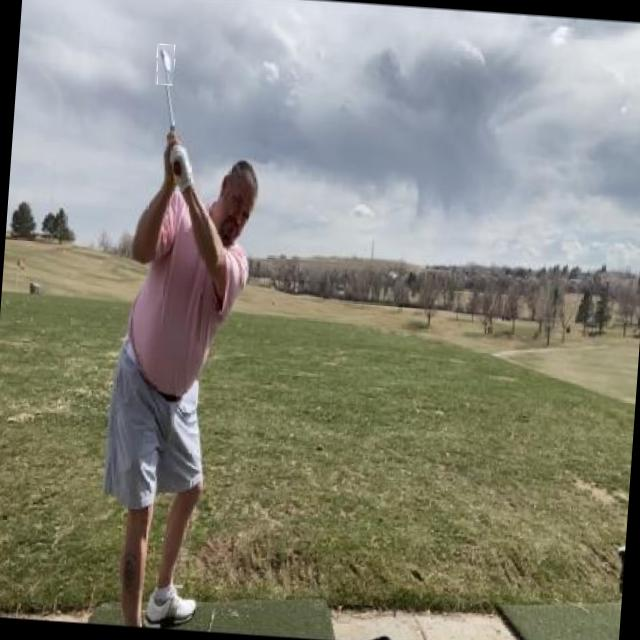club head: (154, 43, 176, 85)
